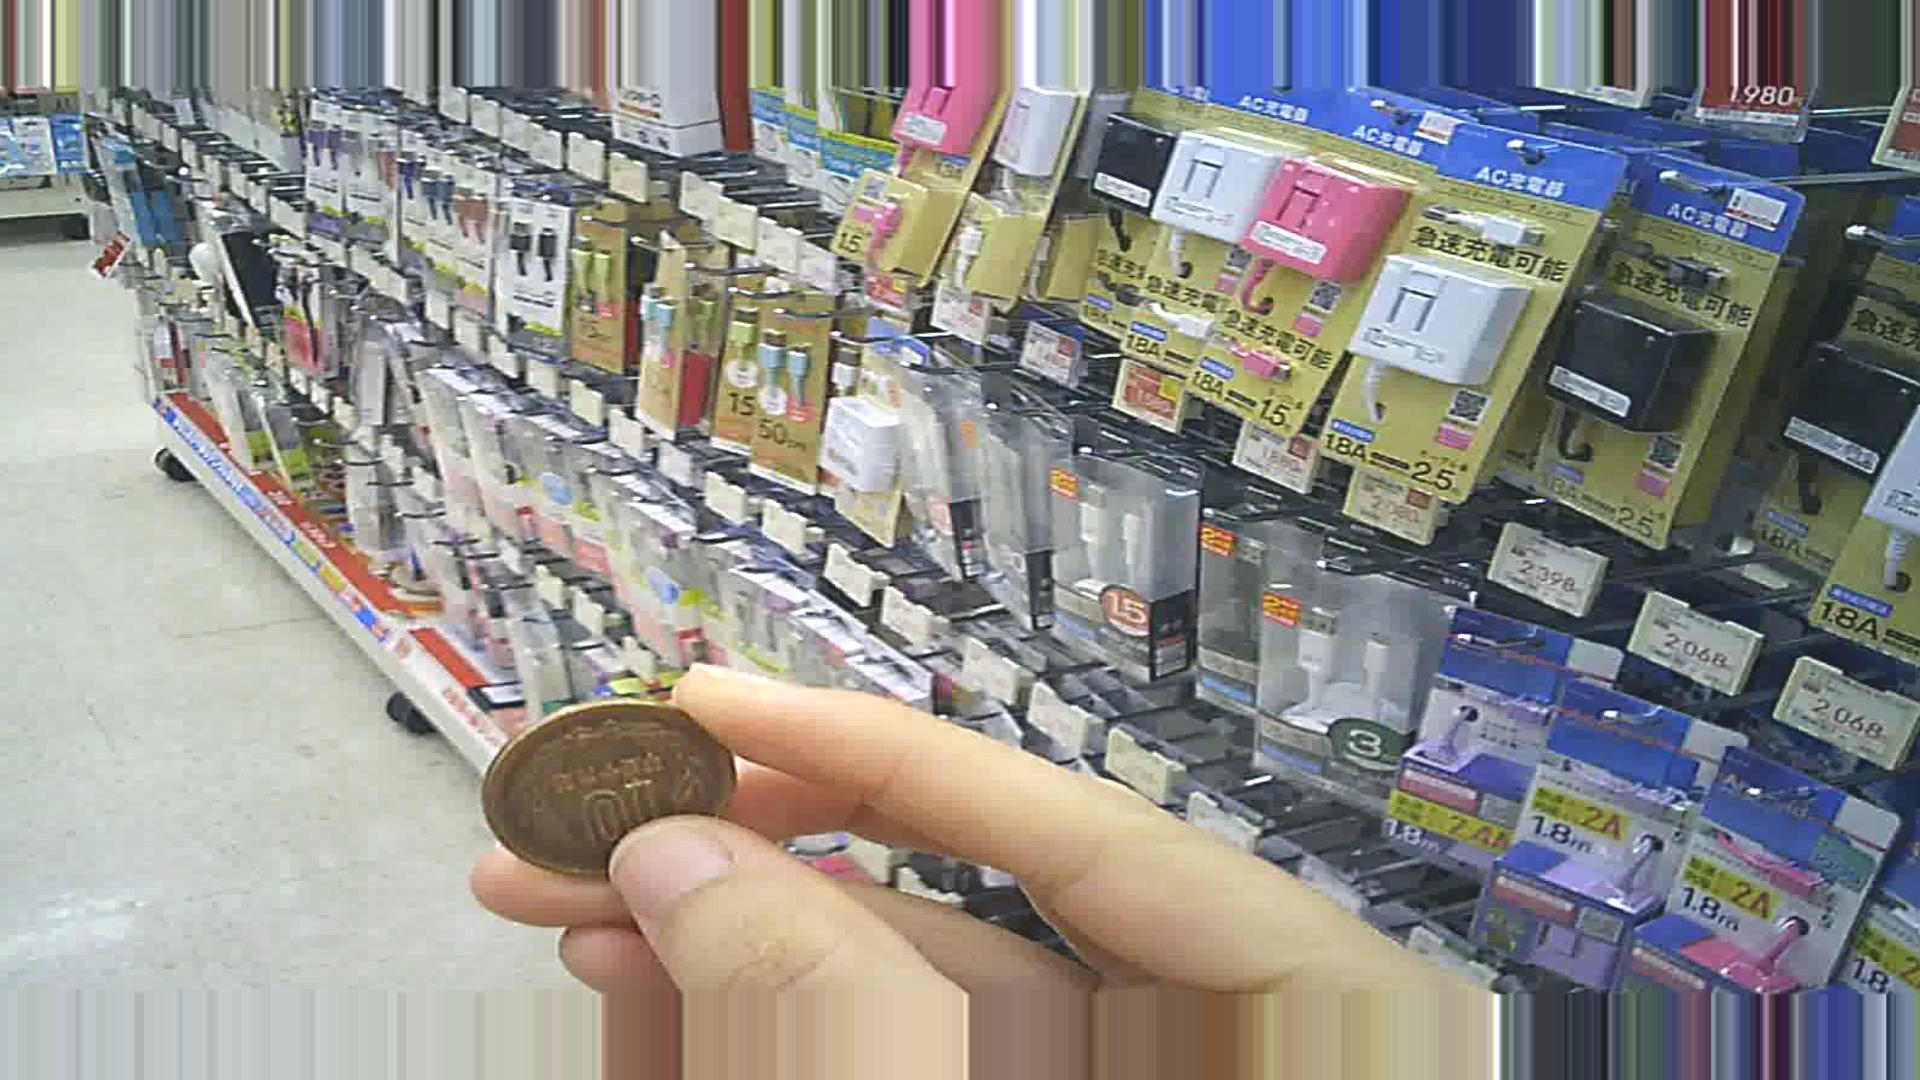10 Yen: (485, 683, 736, 887)
